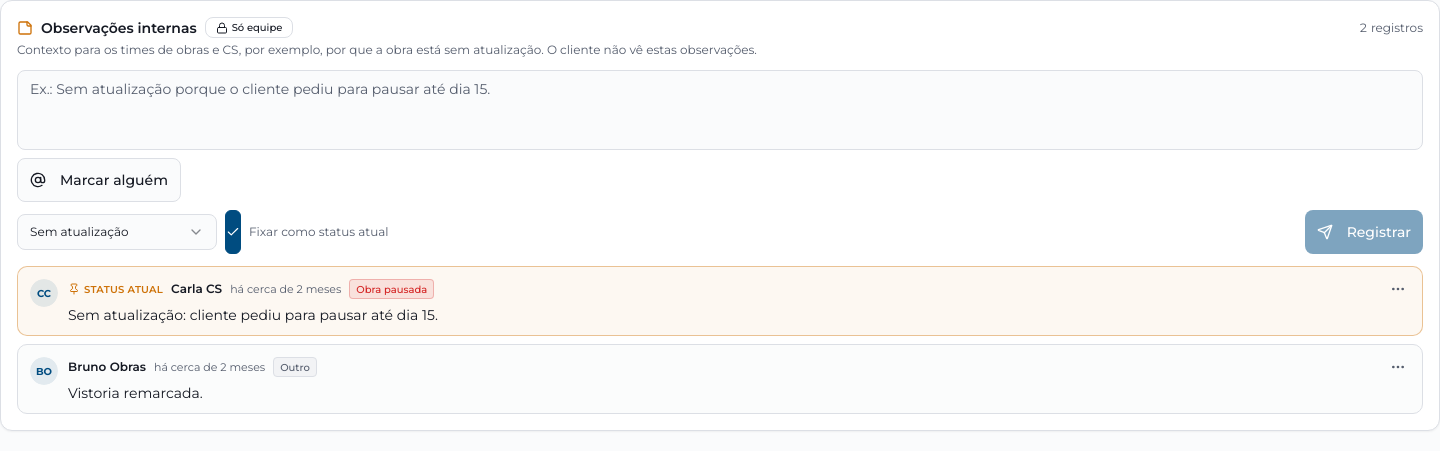
InternalNotesCard › na nota de outro autor, colaborador comum só pode fixar
Later steps or results of the test are not shown.
Click the button named "Ações da observação" in the row of "Outro".
click(1398, 367)  # box [1386,355,1410,379]
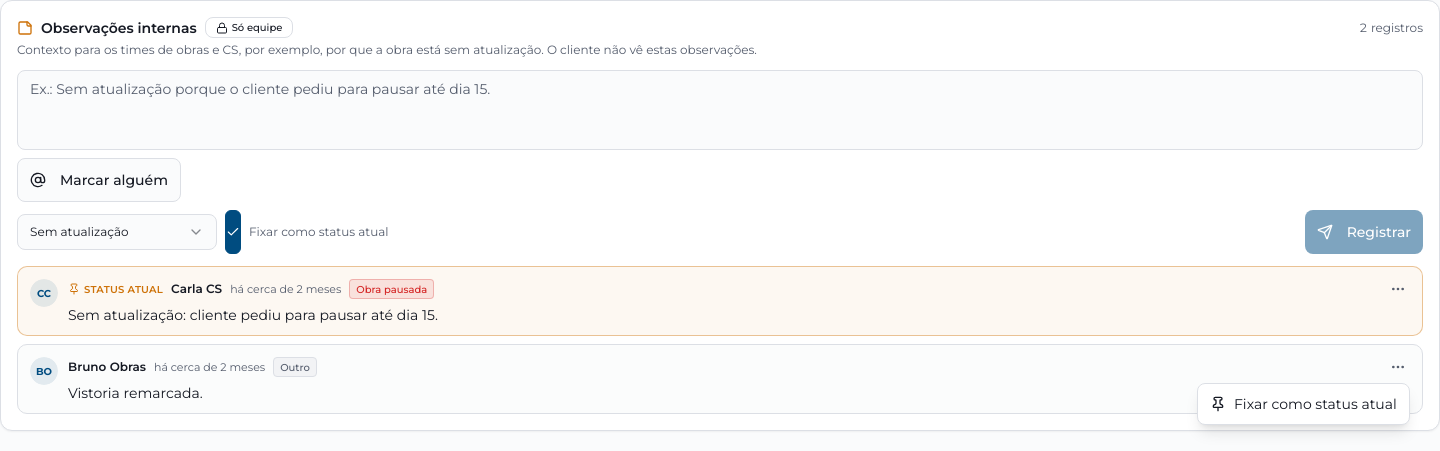
expect the menu item "Fixar como status atual" is shown: met, box [1210,395,1397,413]
